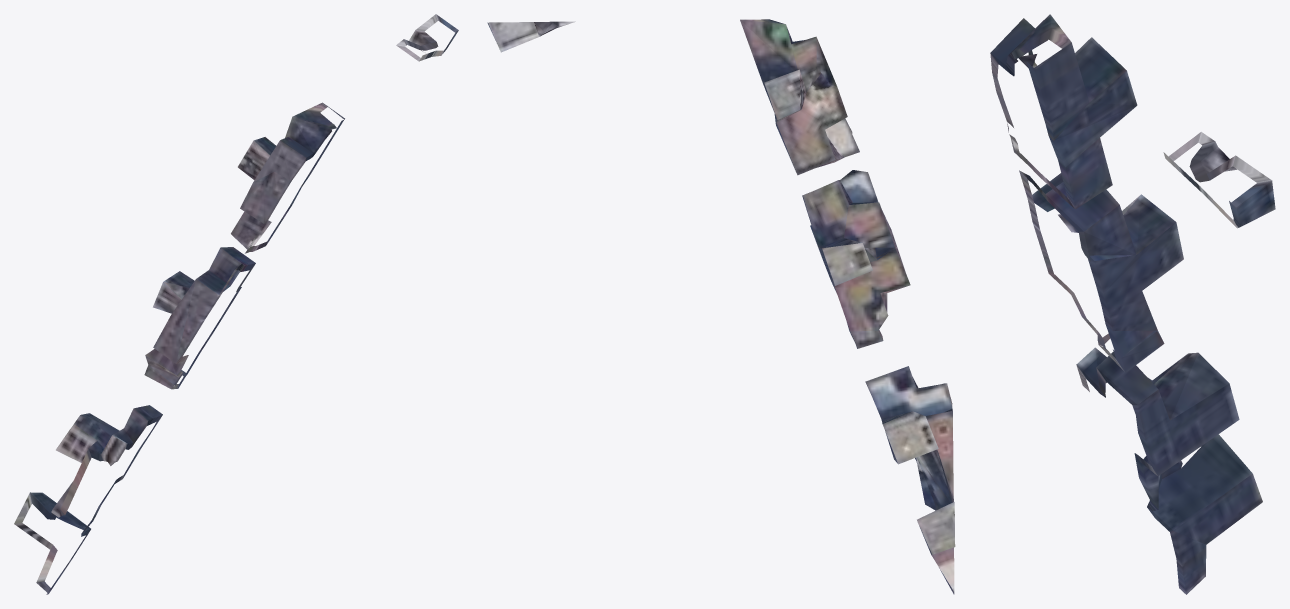
3 renders of one model, left to right at view 1: azimuth 30°, elevation 25°; view 2: azimuth 150°, elevation 25°; view 3: azimuth 270°, elevation 25°, orthographic. The views are drawn at different scales.
Size of the model in its own units: 132 by 131 by 45.63.
1 material, 1 textured.
